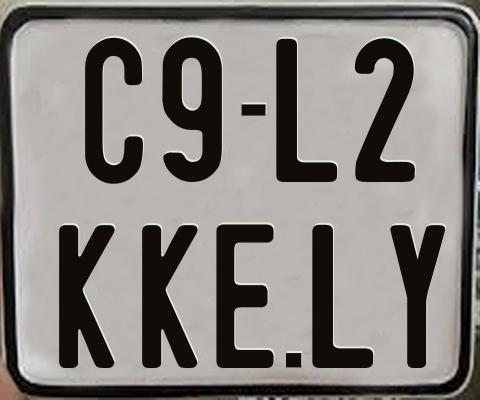2: (354, 35, 418, 182)
9: (161, 36, 224, 187)
C: (84, 36, 145, 182)
E: (216, 221, 275, 368)
K: (59, 224, 120, 372), (141, 223, 202, 366)
L: (273, 38, 340, 182), (311, 225, 377, 370)
Y: (390, 223, 451, 369)
